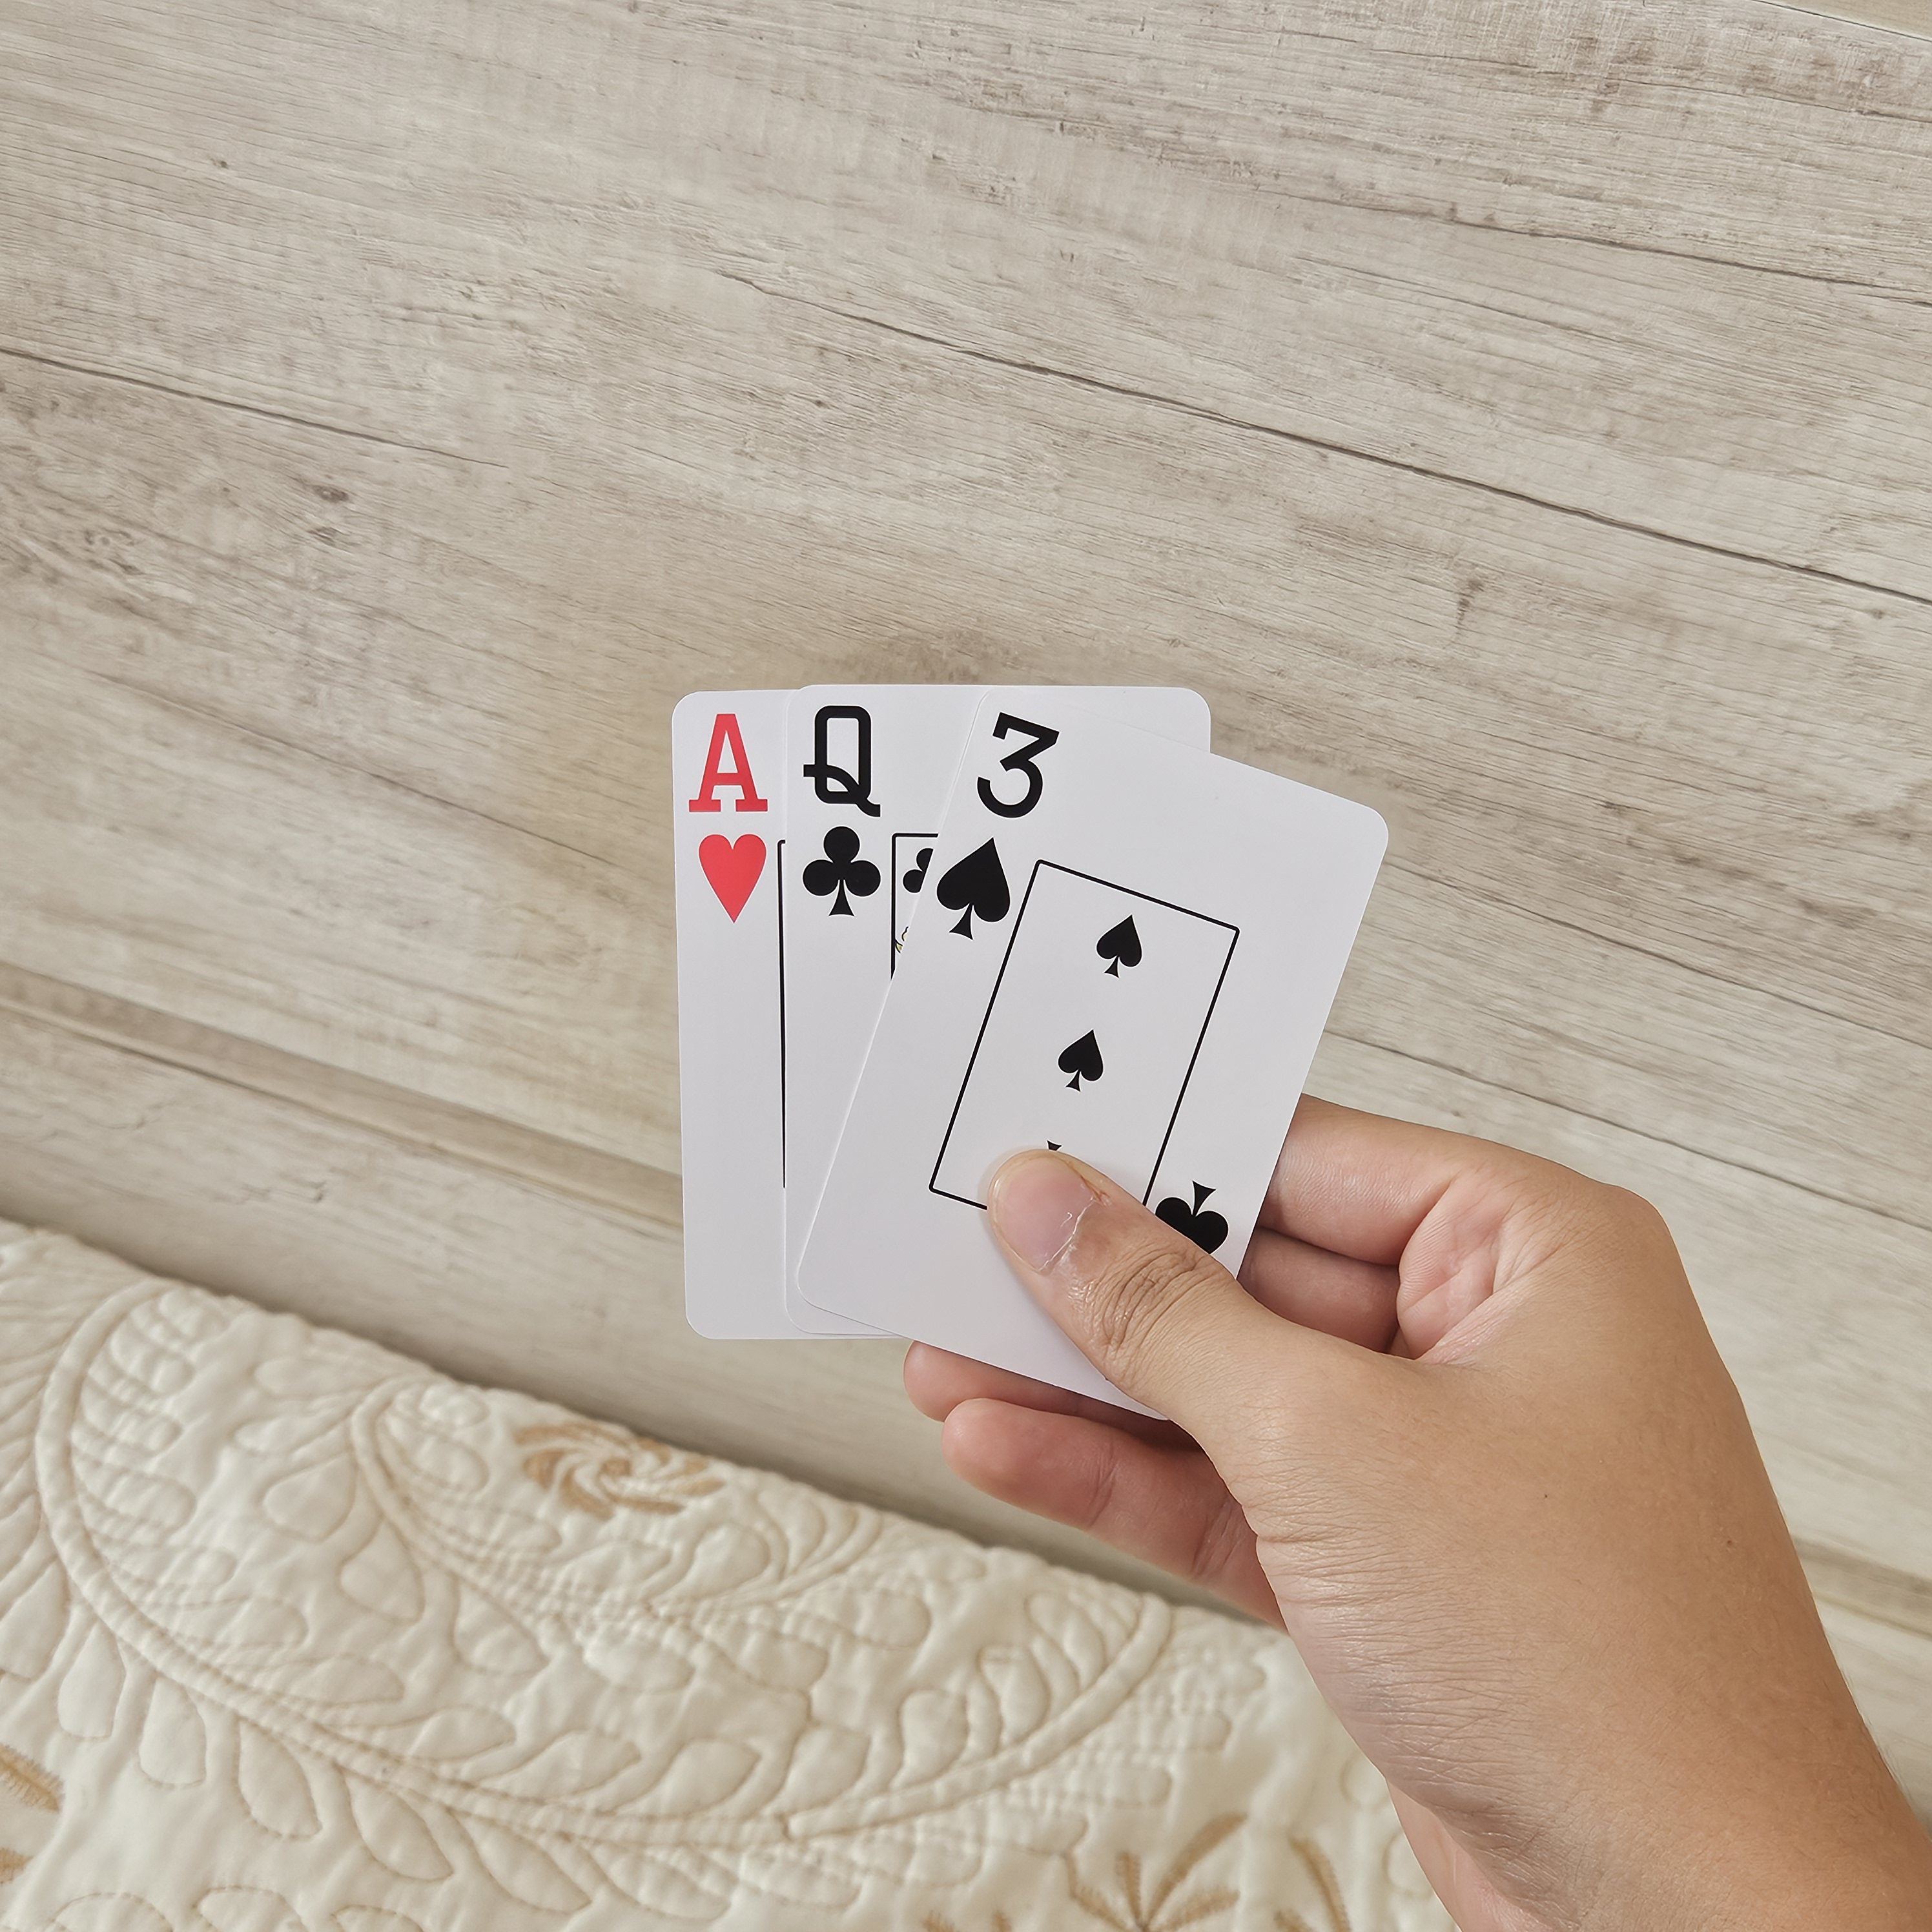3E: (929, 688, 1063, 945)
AC: (669, 695, 780, 929)
QP: (789, 690, 897, 925)
